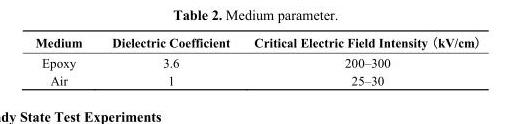table: (34, 34, 480, 87)
table column: (241, 34, 480, 87), (96, 34, 241, 87), (34, 34, 96, 87)
table column header: (34, 34, 480, 51)
table row: (34, 51, 480, 70), (34, 34, 480, 51), (34, 70, 480, 87)
